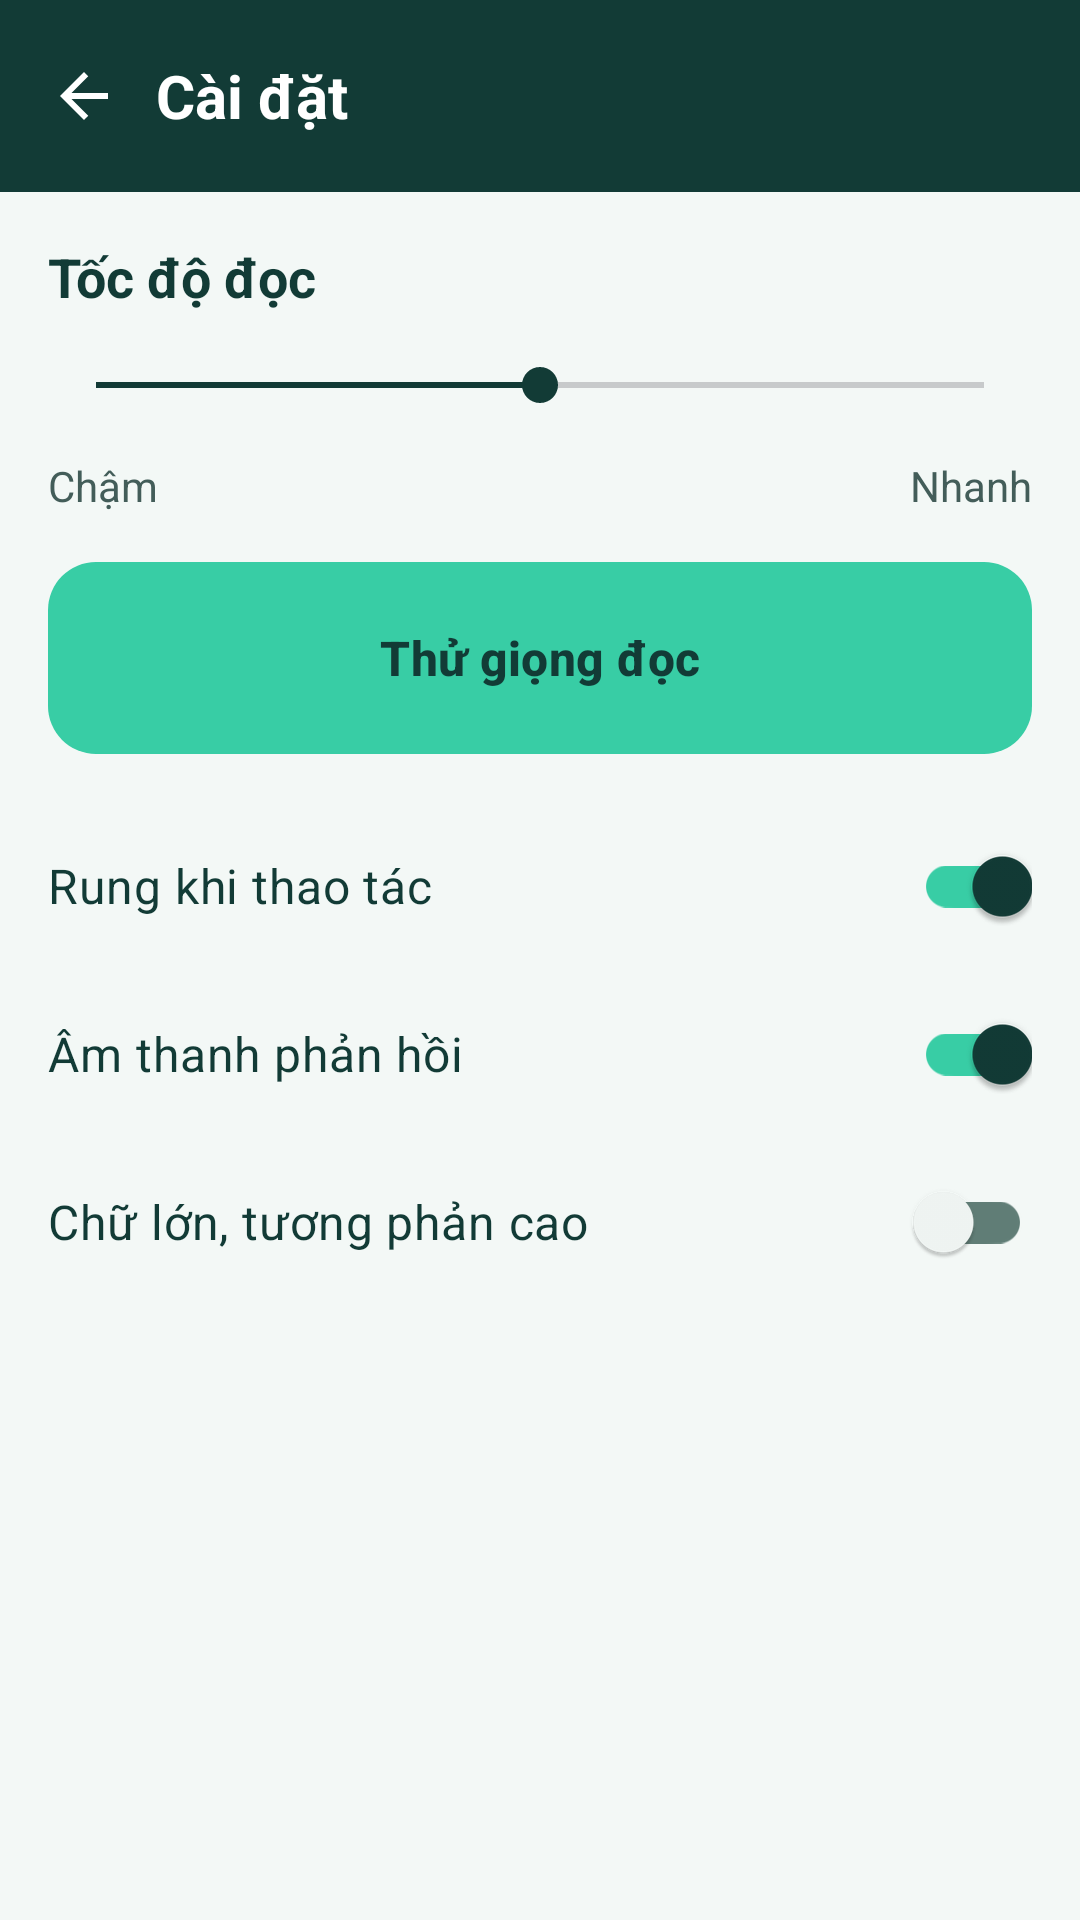

Where icons sit on this 1080*1920 app screen, as (x1, y1, x2, y2):
Quay lại màn hình chính: (60, 72, 108, 120)
